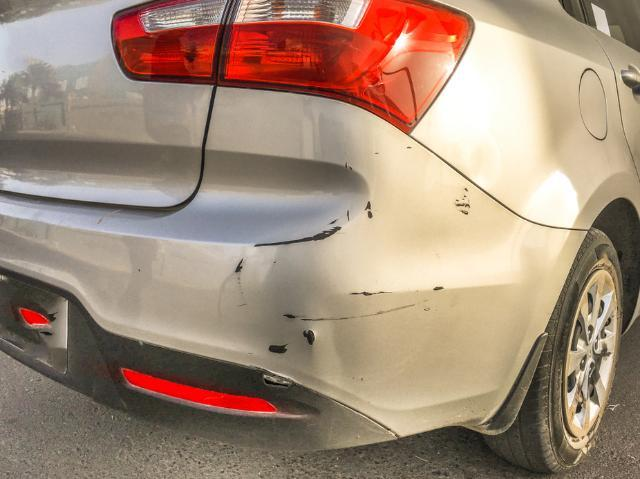Bumper: (216, 90, 552, 441)
